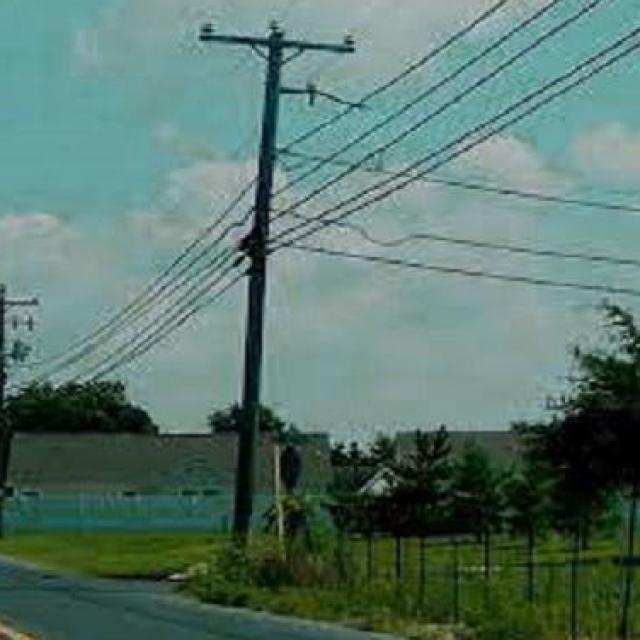non-critical vegetation: (206, 12, 373, 548), (0, 288, 41, 534)
